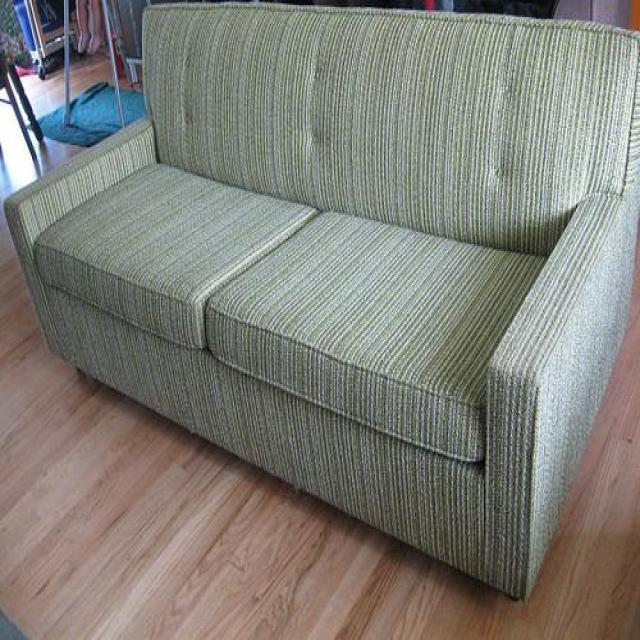sofa: (6, 1, 640, 605)
